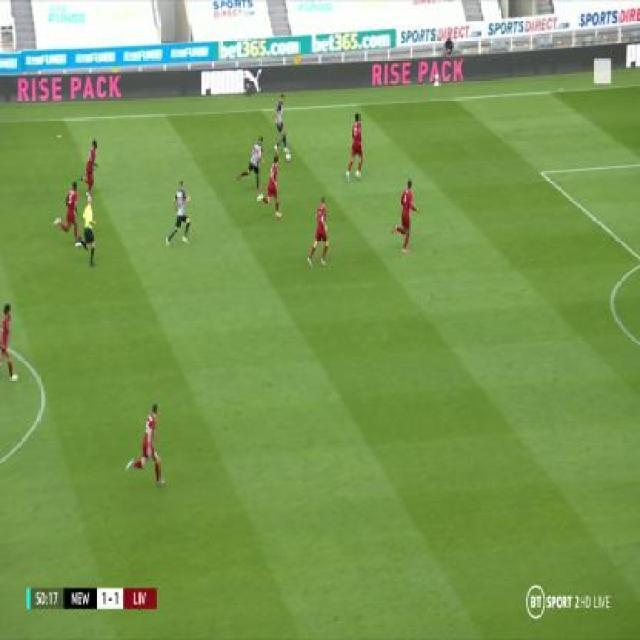ball: (285, 150, 291, 161)
player: (128, 403, 165, 485), (394, 178, 419, 254), (168, 175, 193, 251), (307, 195, 330, 272), (55, 182, 83, 245), (259, 153, 284, 222), (237, 135, 266, 194), (79, 191, 98, 271), (346, 111, 366, 185), (1, 301, 18, 386), (273, 89, 292, 163), (83, 138, 100, 204)
